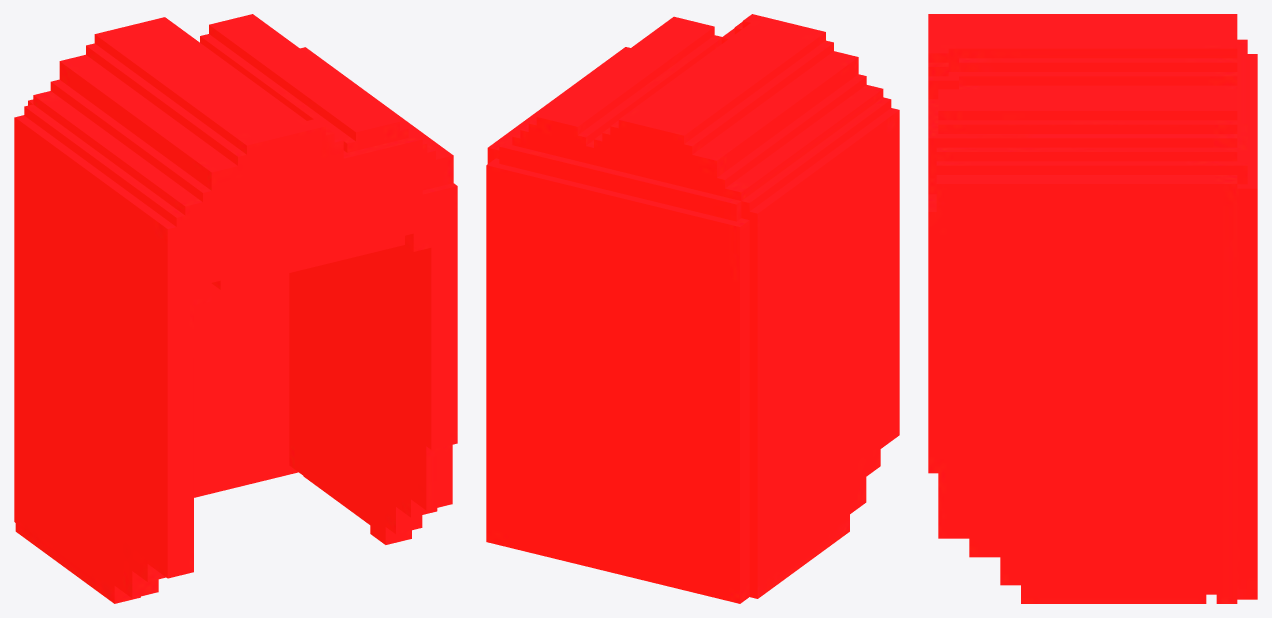
Rendered from long_red.glb.
The picture shows the model from 3 angles, left to right: view 1: azimuth 30°, elevation 25°; view 2: azimuth 150°, elevation 25°; view 3: azimuth 270°, elevation 25°; orthographic projection. The views are drawn at different scales.
Visible parts, largest first — view 1: long_female_unwrpped; view 2: long_female_unwrpped; view 3: long_female_unwrpped.
Part boxes in pixels (x1,y1,x2,y2): long_female_unwrpped: (14, 14, 457, 603); long_female_unwrpped: (486, 14, 899, 603); long_female_unwrpped: (928, 14, 1257, 603).
Size of the model in its own units: 3.3 by 5.2 by 3.2.
1 material, 1 textured.
